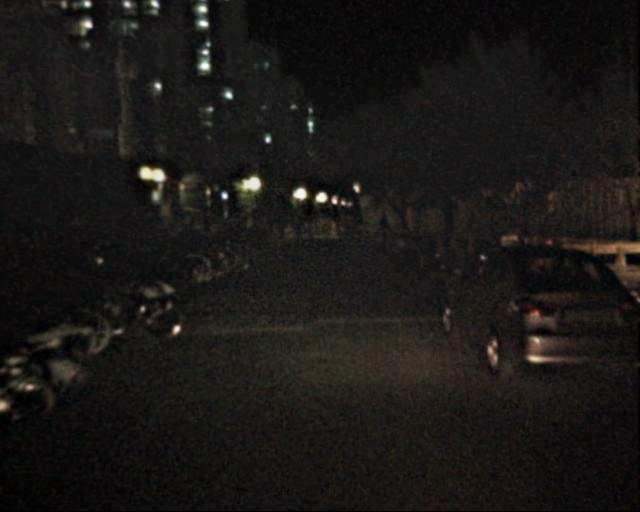person: (234, 210, 272, 233), (288, 207, 303, 243), (163, 212, 176, 244), (377, 215, 390, 246), (198, 213, 211, 244), (183, 213, 195, 243), (271, 212, 283, 241)
